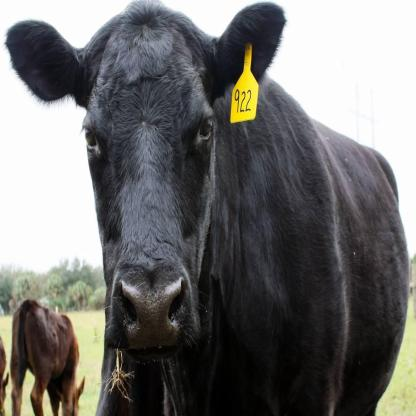cow: (9, 4, 409, 416), (10, 300, 85, 416)
